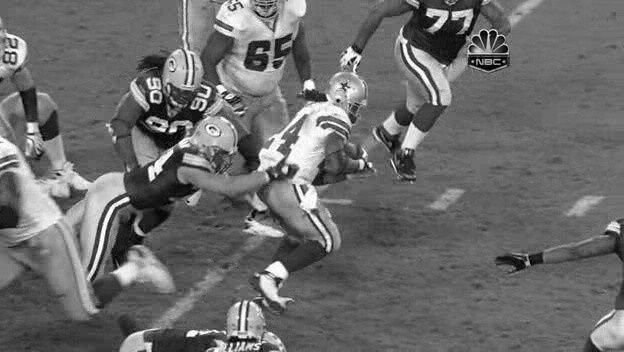person: (330, 76, 366, 122), (329, 76, 365, 122), (331, 76, 367, 122), (330, 75, 366, 121), (330, 77, 366, 123)
target_negative: (313, 198, 614, 346), (119, 155, 377, 294), (222, 272, 356, 350), (367, 166, 507, 216), (358, 183, 533, 185), (616, 219, 618, 253)
